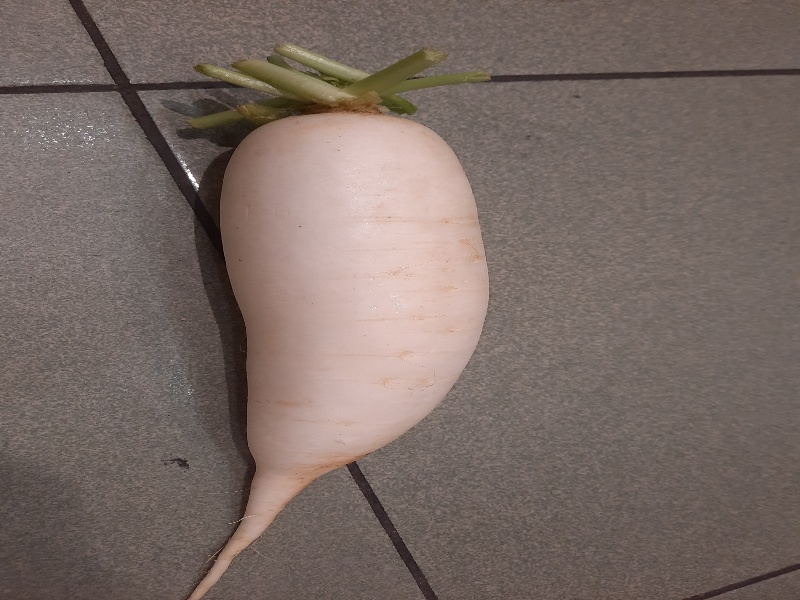vege: (168, 41, 493, 591)
